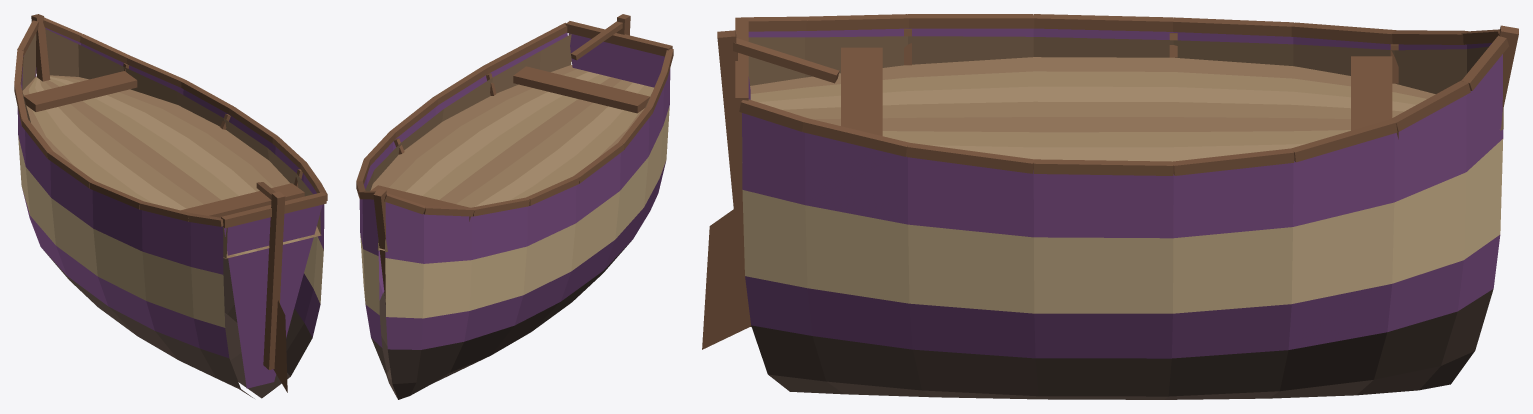
The model's file is fishing_boat_plum.glb.
3 views of the same model, side by side, from view 1: azimuth 30°, elevation 25°; view 2: azimuth 150°, elevation 25°; view 3: azimuth 270°, elevation 25° (orthographic). The views are drawn at different scales.
Parts seen in each view (by area): view 1: Painted strake, Oiled oak, Faded cream band, Tarred keel, Deck board 1, Inside oak, Deck board 3, Deck board 2, Deck board 0; view 2: Painted strake, Faded cream band, Oiled oak, Tarred keel, Deck board 1, Deck board 2, Deck board 3, Deck board 0, Inside oak; view 3: Painted strake, Faded cream band, Oiled oak, Tarred keel, Inside oak, Deck board 0, Deck board 1, Deck board 3, Deck board 2.
Boxes of the visible parts, <box> form: Painted strake: <box>17,28,324,388</box>; Oiled oak: <box>14,14,327,392</box>; Faded cream band: <box>18,136,323,327</box>; Tarred keel: <box>43,250,312,398</box>; Deck board 1: <box>22,75,321,258</box>; Inside oak: <box>22,29,320,259</box>; Deck board 3: <box>35,77,299,253</box>; Deck board 2: <box>39,76,310,250</box>; Deck board 0: <box>28,77,289,255</box>; Painted strake: <box>359,32,670,349</box>; Faded cream band: <box>360,106,669,318</box>; Oiled oak: <box>356,14,673,304</box>; Tarred keel: <box>371,241,631,399</box>; Deck board 1: <box>370,65,644,249</box>; Deck board 2: <box>378,69,632,250</box>; Deck board 3: <box>378,71,643,250</box>; Deck board 0: <box>381,74,653,250</box>; Inside oak: <box>365,34,651,252</box>; Painted strake: <box>742,28,1503,358</box>; Faded cream band: <box>742,139,1503,313</box>; Oiled oak: <box>702,14,1518,349</box>; Tarred keel: <box>751,289,1493,399</box>; Inside oak: <box>742,36,1503,163</box>; Deck board 0: <box>750,71,1426,147</box>; Deck board 1: <box>750,57,1435,132</box>; Deck board 3: <box>758,86,1416,161</box>; Deck board 2: <box>783,101,1403,119</box>.
Size of the model in its own units: 2.31 by 2.64 by 5.32.
